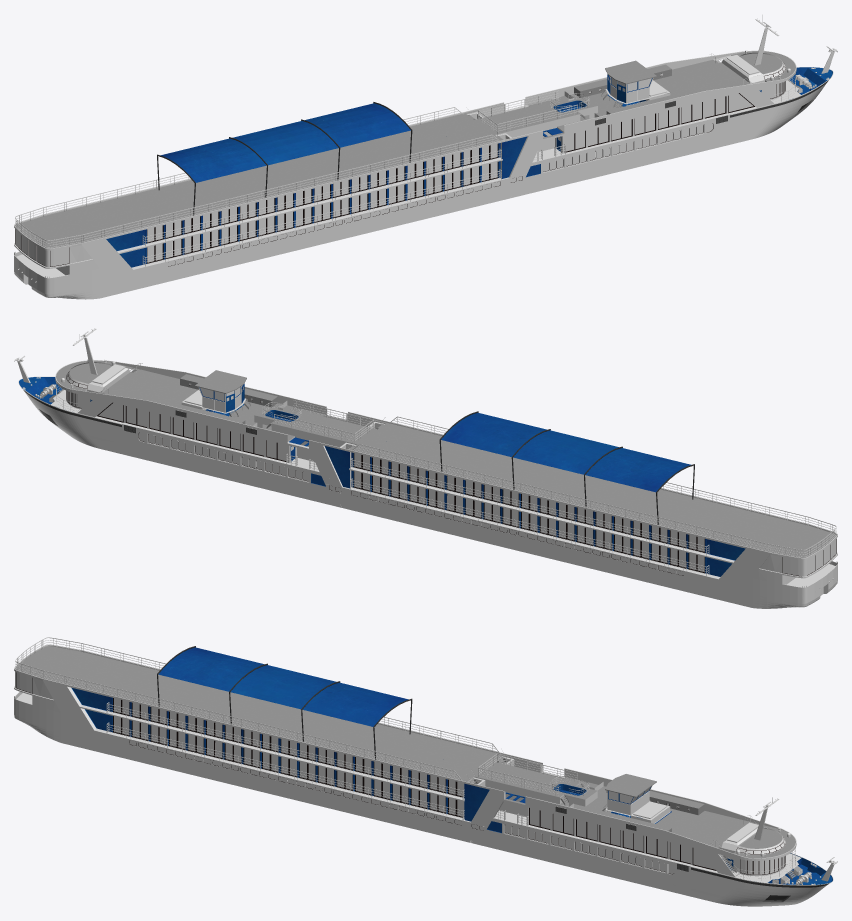
File: river-cruise-ships.fbx
3 views of the same model, one above another, from view 1: azimuth 30°, elevation 25°; view 2: azimuth 150°, elevation 25°; view 3: azimuth 330°, elevation 25° (orthographic).
Parts seen in each view (by area): view 1: Main Body_Main Body_0; view 2: Main Body_Main Body_0; view 3: Main Body_Main Body_0.
Part boxes in pixels (x1,y1,x2,y2): Main Body_Main Body_0: (14, 14, 837, 299); Main Body_Main Body_0: (14, 328, 837, 608); Main Body_Main Body_0: (14, 637, 837, 906).
Size of the model in its own units: 1386 by 161 by 118.
